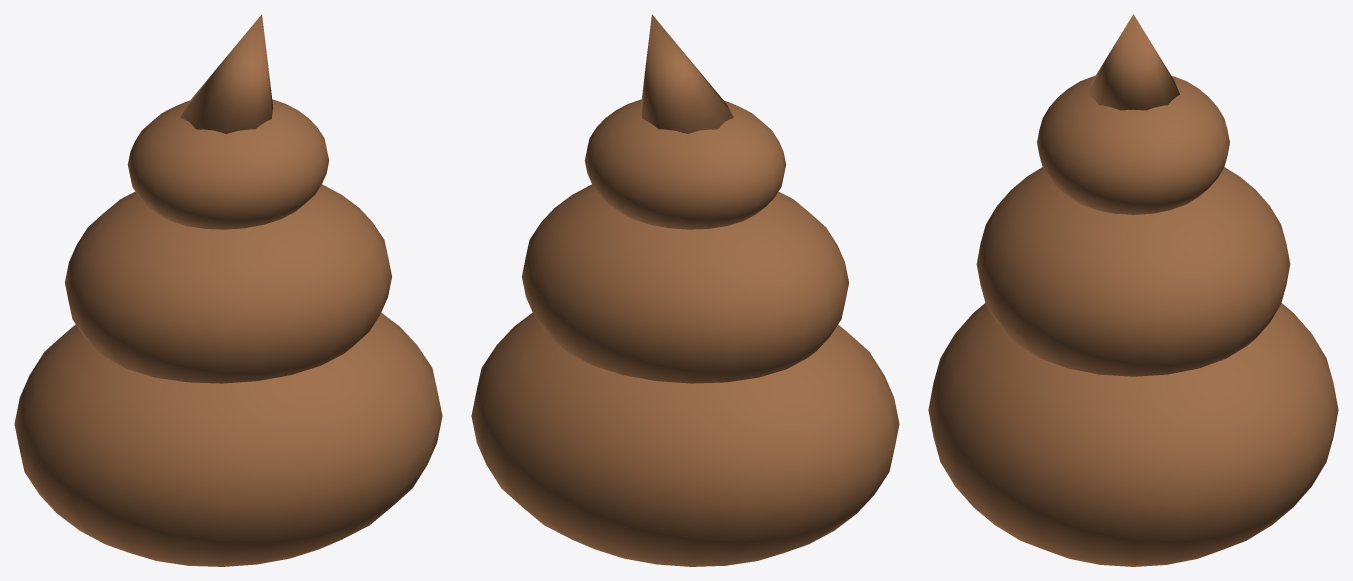
Rendered from icon_scoop.glb.
3 views of the same model, side by side, from view 1: azimuth 30°, elevation 25°; view 2: azimuth 150°, elevation 25°; view 3: azimuth 270°, elevation 25° (orthographic). The views are drawn at different scales.
Parts seen in each view (by area): view 1: icon_scoop; view 2: icon_scoop; view 3: icon_scoop.
Part boxes in pixels (box(x1,y1,x2,y2)): icon_scoop: box(14, 14, 442, 566); icon_scoop: box(471, 14, 899, 566); icon_scoop: box(928, 14, 1338, 566).
Bounding box in the file's own units: 0.34 × 0.442 × 0.306.
